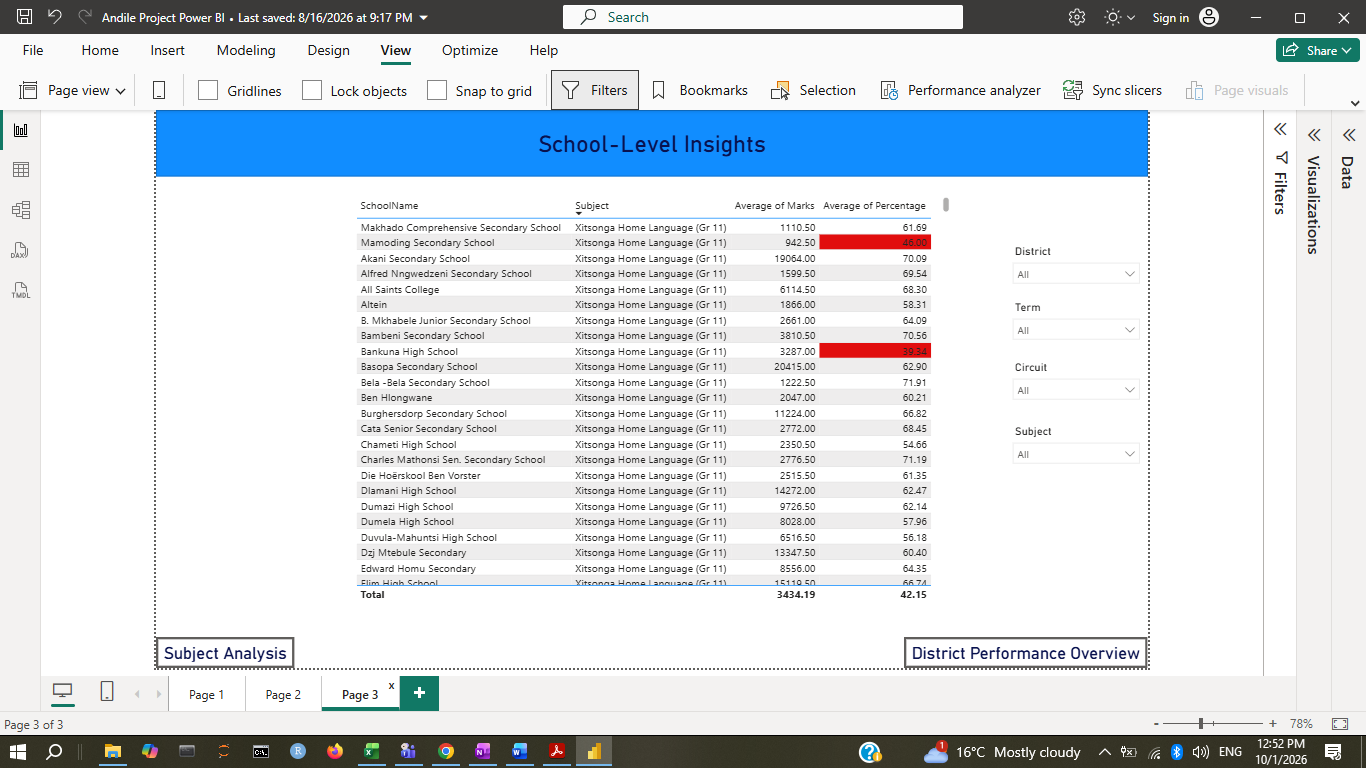

The dashboard page shown, as its layout file describes it:
{"tool":"powerbi","page":{"name":"Page 3","canvas":[1280,720],"ordinal":2},"visuals":[{"type":"tableEx","fields":{"Values":["Sheet2.SchoolName","Sheet2.Name","Avg(Sheet2.Marks)","Avg(Sheet2.Percentage)"]},"box":[252.9,107.1,775.7,531.4],"z":0},{"type":"shape","box":[0,0,1280,85.7],"z":1},{"type":"actionButton","box":[0,680,178.6,40],"z":2},{"type":"actionButton","box":[965.7,680,314.3,40],"z":3},{"type":"slicer","fields":{"Values":["Sheet2.Term"]},"box":[1095.7,241.4,184.3,77.1],"z":4},{"type":"slicer","fields":{"Values":["Sheet2.District"]},"box":[1095.7,168.6,184.3,72.9],"z":5},{"type":"slicer","fields":{"Values":["Sheet2.Circuit"]},"box":[1095.7,318.6,184.3,82.9],"z":6},{"type":"slicer","fields":{"Values":["Sheet2.Name"]},"box":[1095.7,401.4,184.3,71.4],"z":7}]}

Visuals, with their boxes on the page's 1280x720 design canvas (x1, y1, x2, y2). These are canvas units, not pixel positions in the 1366x768 screenshot, which may show the page scaled, cropped or inside an application window:
tableEx - Sheet2.SchoolName x Sheet2.Name: {"left": 253, "top": 107, "right": 1029, "bottom": 638}
shape: {"left": 0, "top": 0, "right": 1280, "bottom": 86}
actionButton: {"left": 0, "top": 680, "right": 179, "bottom": 720}
actionButton: {"left": 966, "top": 680, "right": 1280, "bottom": 720}
slicer - Sheet2.Term: {"left": 1096, "top": 241, "right": 1280, "bottom": 318}
slicer - Sheet2.District: {"left": 1096, "top": 169, "right": 1280, "bottom": 242}
slicer - Sheet2.Circuit: {"left": 1096, "top": 319, "right": 1280, "bottom": 402}
slicer - Sheet2.Name: {"left": 1096, "top": 401, "right": 1280, "bottom": 473}
